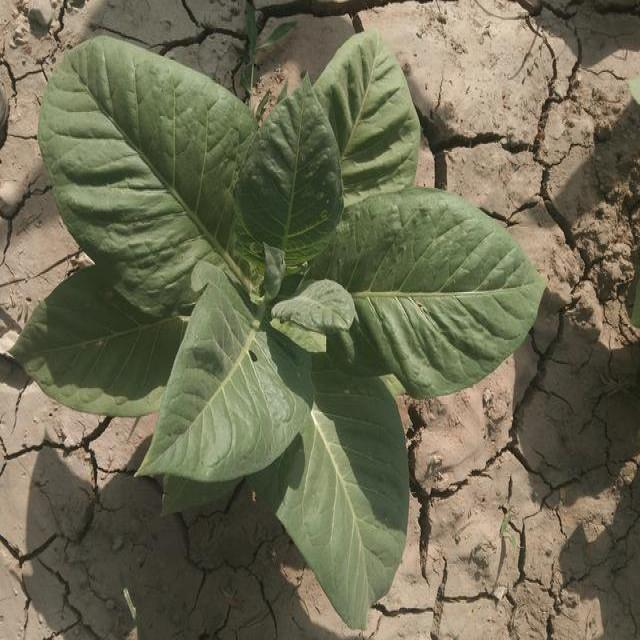crop: (13, 41, 546, 640)
